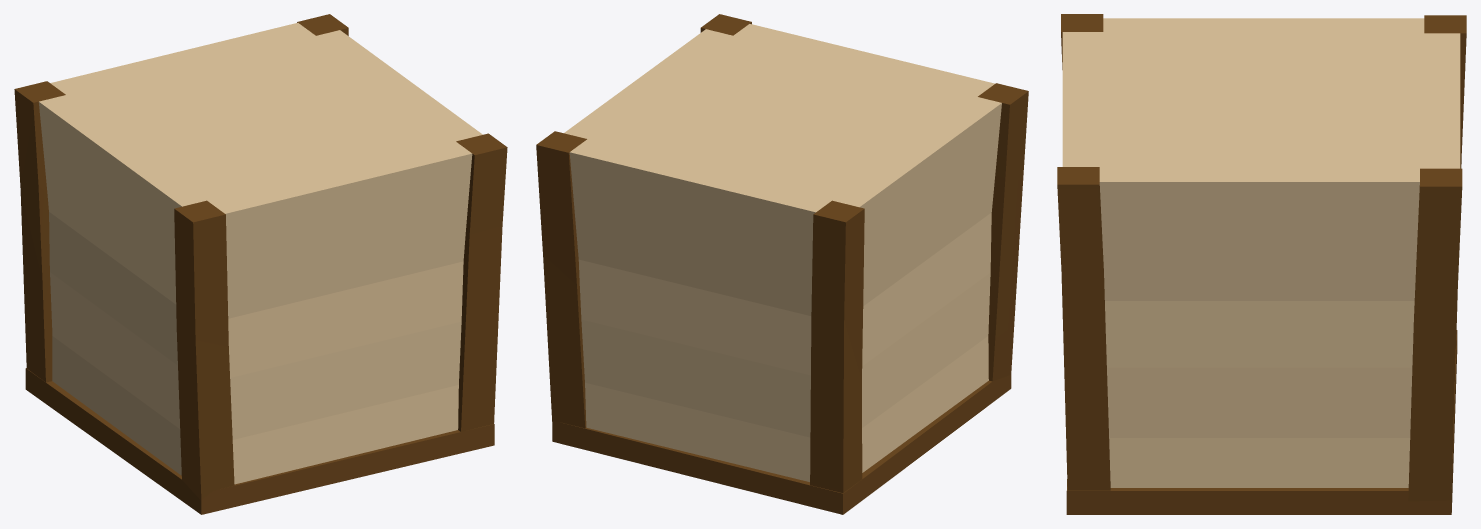
The model's file is SmallHouse_01.fbx.
3 views of the same model, side by side, from view 1: azimuth 30°, elevation 25°; view 2: azimuth 150°, elevation 25°; view 3: azimuth 270°, elevation 25° (orthographic). The views are drawn at different scales.
Parts seen in each view (by area): view 1: SmallHouse_01; view 2: SmallHouse_01; view 3: SmallHouse_01.
Boxes of the visible parts, x1,y1,x2,y2 form: SmallHouse_01: (14,14,507,514); SmallHouse_01: (536,14,1028,514); SmallHouse_01: (1057,14,1466,514).
Bounding box in the file's own units: 303 × 274 × 304.
